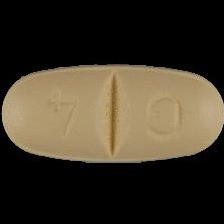61919-569: (0, 0, 224, 224)
